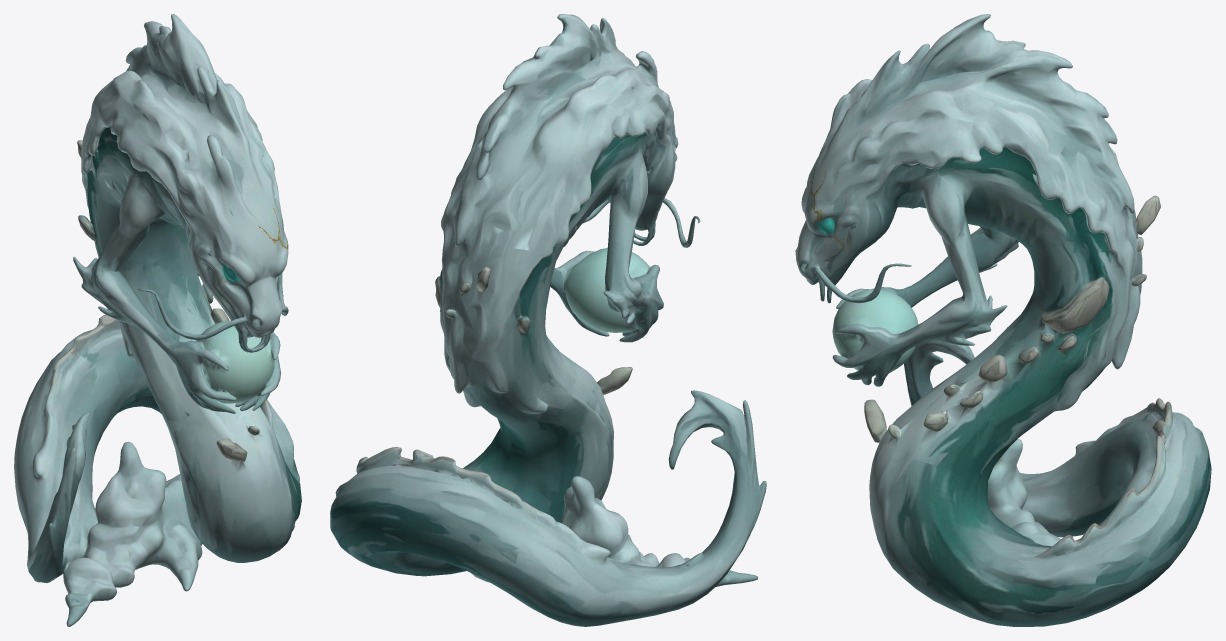
The picture shows the model from 3 angles, left to right: view 1: azimuth 30°, elevation 25°; view 2: azimuth 150°, elevation 25°; view 3: azimuth 270°, elevation 25°; orthographic projection. The views are drawn at different scales.
Parts seen in each view (by area): view 1: Mesh_0; view 2: Mesh_0; view 3: Mesh_0.
Part boxes in pixels (x1=…): Mesh_0: x1=14, y1=14, x2=301, y2=626; Mesh_0: x1=330, y1=14, x2=766, y2=626; Mesh_0: x1=795, y1=14, x2=1211, y2=626.
Bounding box in the file's own units: 1.16 × 1.9 × 1.28.
Materials: 1 (1 with a texture image).
